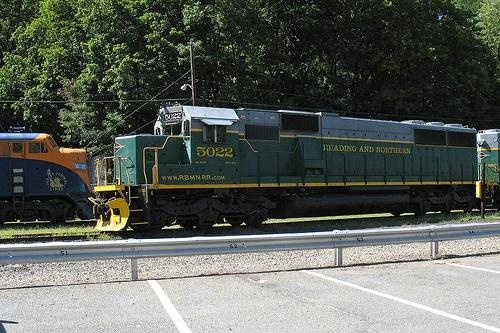train: (89, 106, 479, 234), (1, 132, 93, 224)
